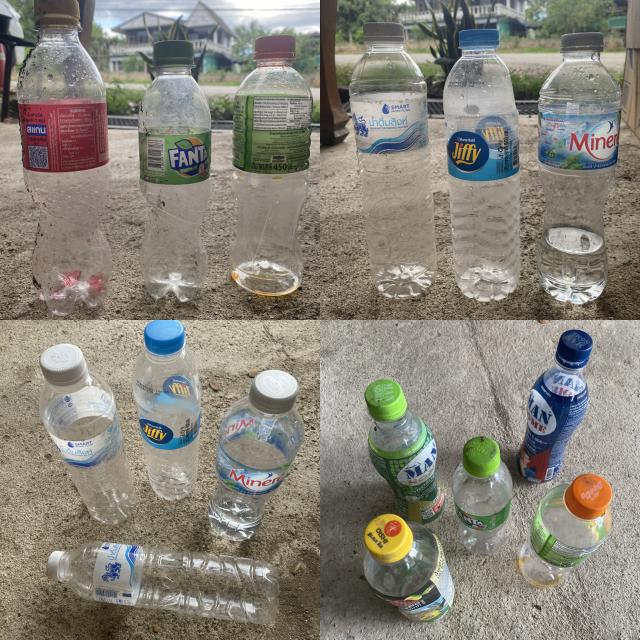plastik: (18, 0, 111, 314), (349, 22, 436, 299), (536, 32, 621, 304), (230, 35, 312, 295), (444, 29, 520, 301), (46, 541, 279, 623), (139, 40, 211, 302), (39, 344, 136, 524), (209, 370, 304, 541), (132, 320, 201, 500), (516, 330, 592, 483), (365, 380, 445, 524), (519, 475, 612, 588), (364, 514, 454, 622), (452, 436, 512, 554)
